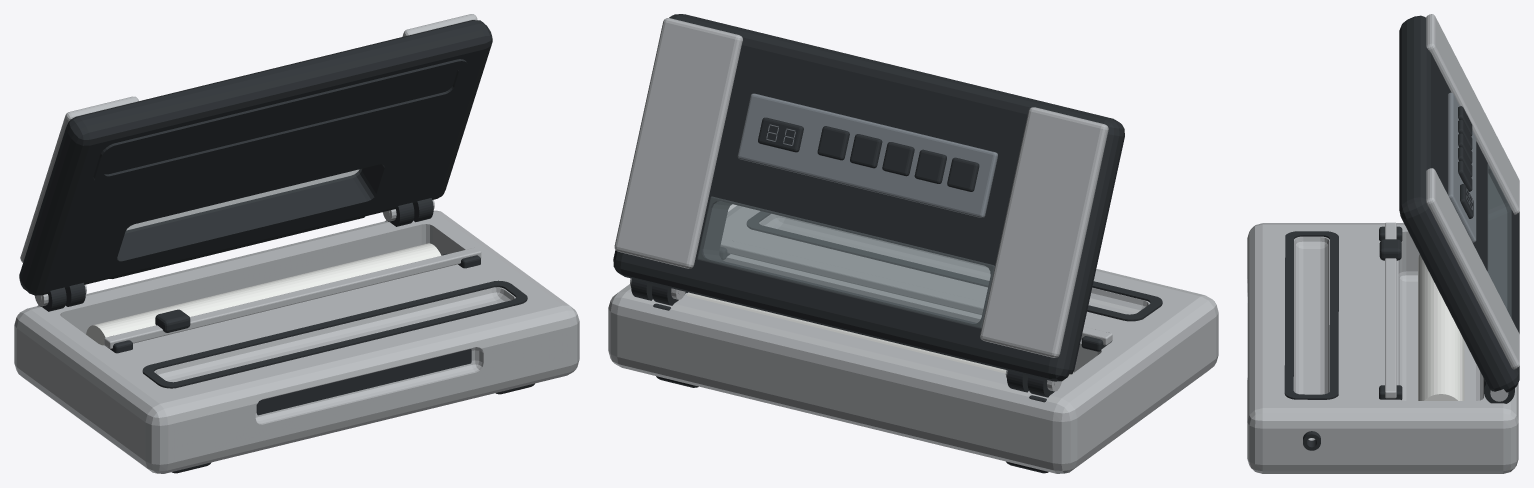
Rendered from A-NEW-20261026-FOOD-VACUUM-SEALER-001_LOD1_R6.glb.
3 views of the same model, side by side, from view 1: azimuth 30°, elevation 25°; view 2: azimuth 150°, elevation 25°; view 3: azimuth 270°, elevation 25° (orthographic). The views are drawn at different scales.
Parts seen in each view (by area): view 1: lower body with actual wells, open lid shell, lid inner sealing strip, lower vacuum gasket, plain packaging film roll, generic cutter rail, front recessed handle backing, alpha roll viewing pane, silver lid wing -0.141, static cutter slider; view 2: lower body with actual wells, open lid shell, silver lid wing -0.141, silver lid wing 0.141, alpha roll viewing pane, original control panel, generic cutter rail, lower vacuum gasket, plain packaging film roll, inactive seven segment display backing, blank physical control 2, blank physical control 0 (+3 smaller); view 3: lower body with actual wells, open lid shell, plain packaging film roll, silver lid wing 0.141, silver lid wing -0.141, lower vacuum gasket, alpha roll viewing pane, original control panel, generic cutter rail, static cutter slider, inactive seven segment display backing, right hose socket rim.
Part boxes in pixels (bbox=[...]): lower body with actual wells: bbox=[14, 210, 579, 473]; open lid shell: bbox=[19, 20, 492, 295]; lid inner sealing strip: bbox=[93, 59, 468, 183]; lower vacuum gasket: bbox=[142, 280, 527, 388]; plain packaging film roll: bbox=[86, 243, 441, 345]; generic cutter rail: bbox=[104, 247, 481, 348]; front recessed handle backing: bbox=[256, 349, 471, 415]; alpha roll viewing pane: bbox=[125, 169, 361, 233]; silver lid wing -0.141: bbox=[20, 96, 138, 262]; static cutter slider: bbox=[155, 309, 190, 332]; lower body with actual wells: bbox=[608, 205, 1218, 473]; open lid shell: bbox=[613, 14, 1124, 381]; silver lid wing -0.141: bbox=[980, 107, 1108, 357]; silver lid wing 0.141: bbox=[614, 18, 742, 268]; alpha roll viewing pane: bbox=[697, 197, 994, 328]; original control panel: bbox=[737, 93, 997, 217]; generic cutter rail: bbox=[720, 238, 1112, 345]; lower vacuum gasket: bbox=[746, 211, 1162, 321]; plain packaging film roll: bbox=[687, 292, 1073, 379]; inactive seven segment display backing: bbox=[758, 117, 803, 152]; blank physical control 2: bbox=[882, 142, 914, 176]; blank physical control 0: bbox=[947, 157, 979, 191]; lower body with actual wells: bbox=[1247, 223, 1518, 473]; open lid shell: bbox=[1399, 15, 1519, 392]; plain packaging film roll: bbox=[1418, 254, 1464, 400]; silver lid wing 0.141: bbox=[1426, 168, 1519, 369]; silver lid wing -0.141: bbox=[1426, 14, 1519, 214]; lower vacuum gasket: bbox=[1284, 231, 1338, 399]; alpha roll viewing pane: bbox=[1488, 164, 1511, 317]; original control panel: bbox=[1447, 92, 1476, 242]; generic cutter rail: bbox=[1385, 222, 1396, 398]; static cutter slider: bbox=[1379, 239, 1401, 260]; inactive seven segment display backing: bbox=[1460, 184, 1473, 218]; right hose socket rim: bbox=[1303, 431, 1320, 450].
Size of the model in its own units: 0.366 by 0.2444 by 0.2107.
